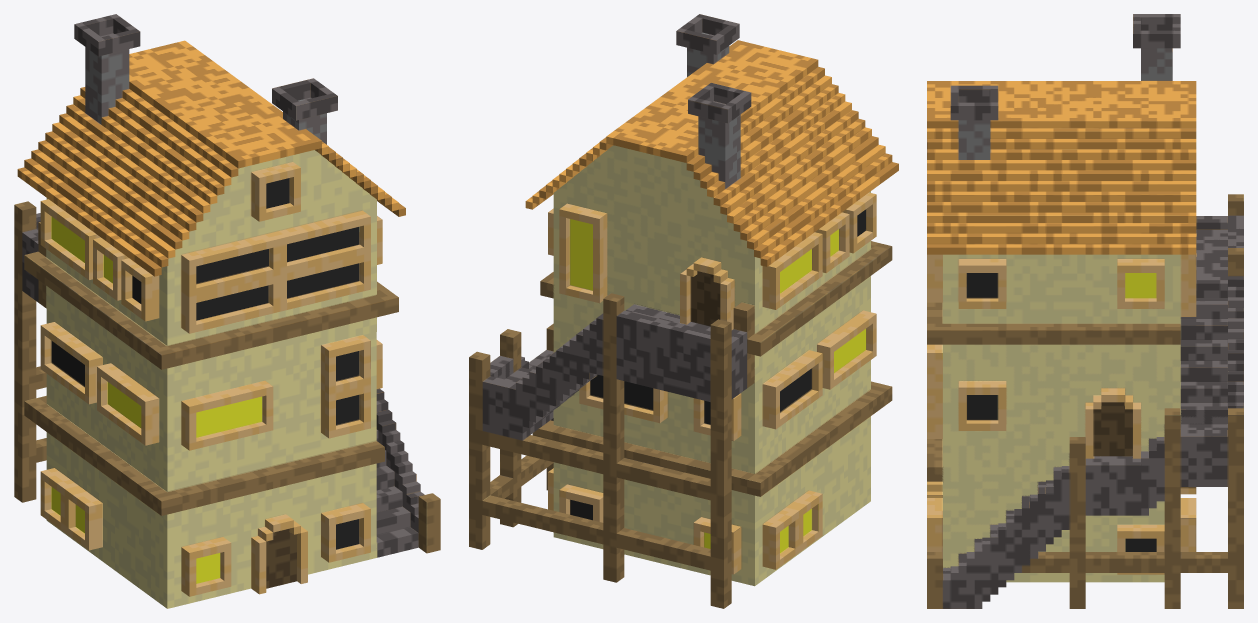
The model's file is House_3.glb.
3 views of the same model, side by side, from view 1: azimuth 30°, elevation 25°; view 2: azimuth 150°, elevation 25°; view 3: azimuth 270°, elevation 25° (orthographic). The views are drawn at different scales.
Parts seen in each view (by area): view 1: House_3; view 2: House_3; view 3: House_3.
Part boxes in pixels (x1,y1,x2,y2): House_3: [14, 14, 440, 608]; House_3: [469, 14, 898, 608]; House_3: [927, 14, 1243, 608].
Size of the model in its own units: 4.1 by 6.7 by 4.
Materials: 1 (1 with a texture image).
